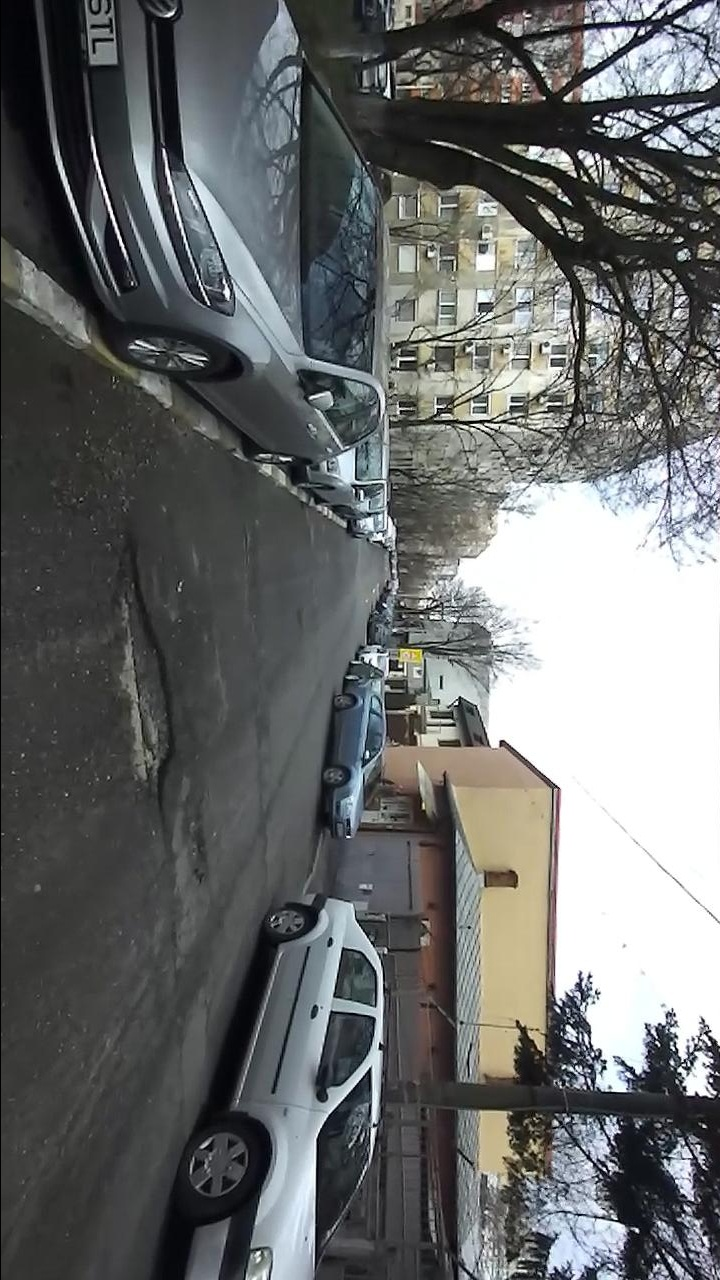pothole: (108, 528, 178, 820), (183, 799, 214, 891)
